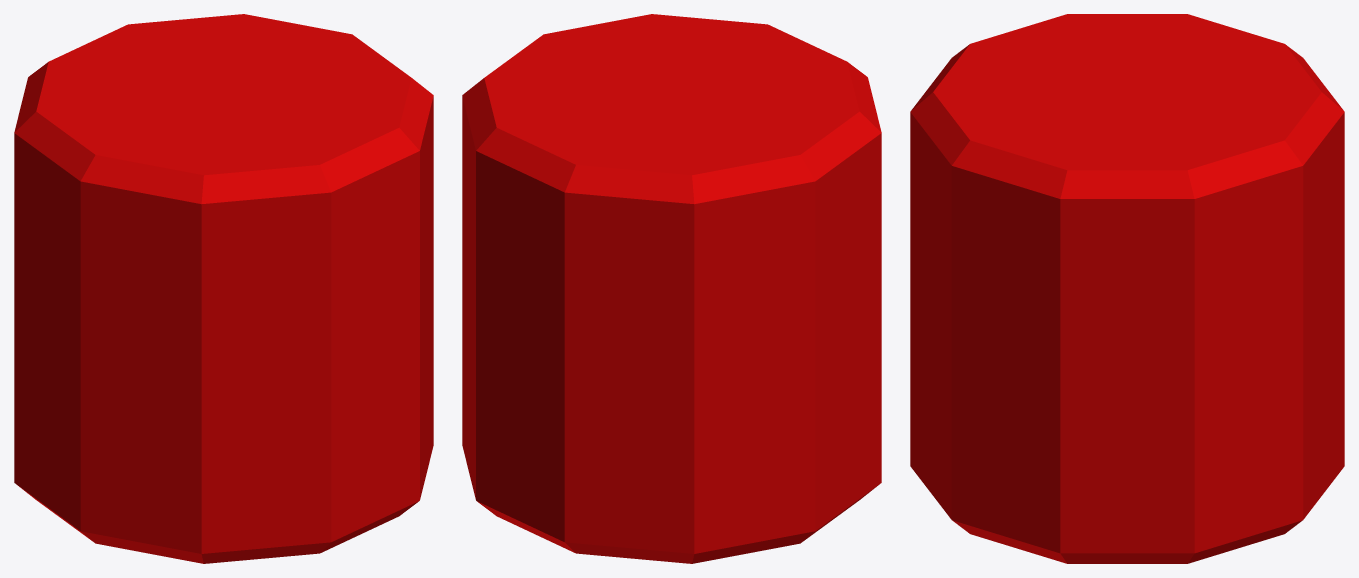
File: CylinderShellVertex.fbx
The picture shows the model from 3 angles, left to right: view 1: azimuth 30°, elevation 25°; view 2: azimuth 150°, elevation 25°; view 3: azimuth 270°, elevation 25°; orthographic projection.
Parts seen in each view (by area): view 1: Cylinder.010; view 2: Cylinder.010; view 3: Cylinder.010.
Part boxes in pixels (<box>): Cylinder.010: <box>14,14,433,563</box>; Cylinder.010: <box>462,14,881,563</box>; Cylinder.010: <box>910,14,1344,563</box>.
Size of the model in its own units: 190 by 200 by 200.
